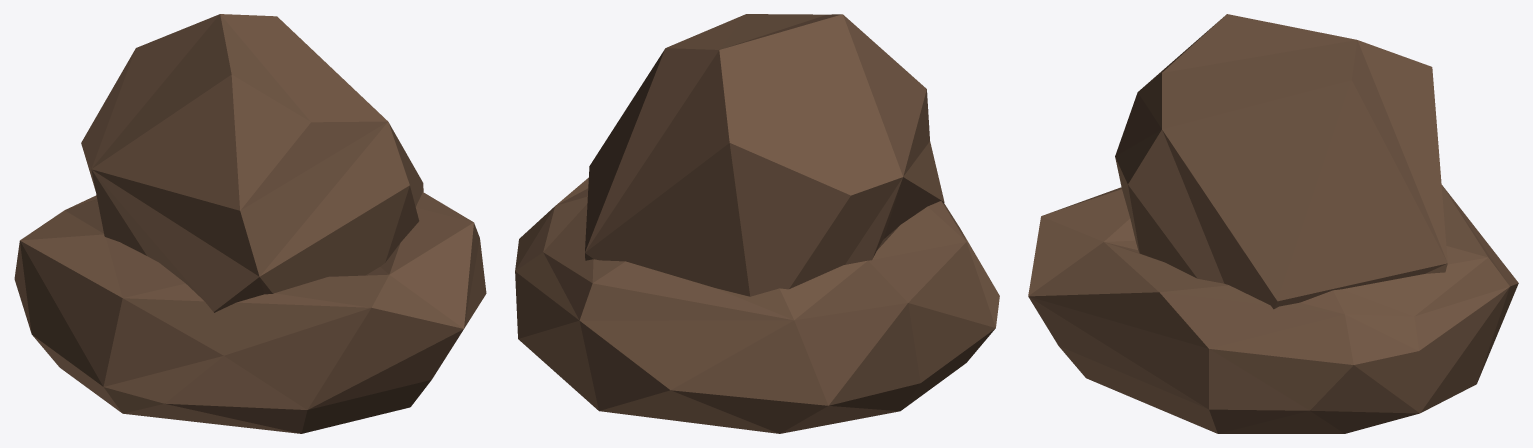
Rendered from Scoop.fbx.
The picture shows the model from 3 angles, left to right: view 1: azimuth 30°, elevation 25°; view 2: azimuth 150°, elevation 25°; view 3: azimuth 270°, elevation 25°; orthographic projection. The views are drawn at different scales.
Visible parts, largest first — view 1: pPlatonic2; view 2: pPlatonic2; view 3: pPlatonic2.
Part boxes in pixels (bbox=[...]): pPlatonic2: bbox=[14, 14, 486, 433]; pPlatonic2: bbox=[515, 14, 999, 433]; pPlatonic2: bbox=[1028, 14, 1518, 433].
Size of the model in its own units: 2.82 by 2.35 by 3.09.
